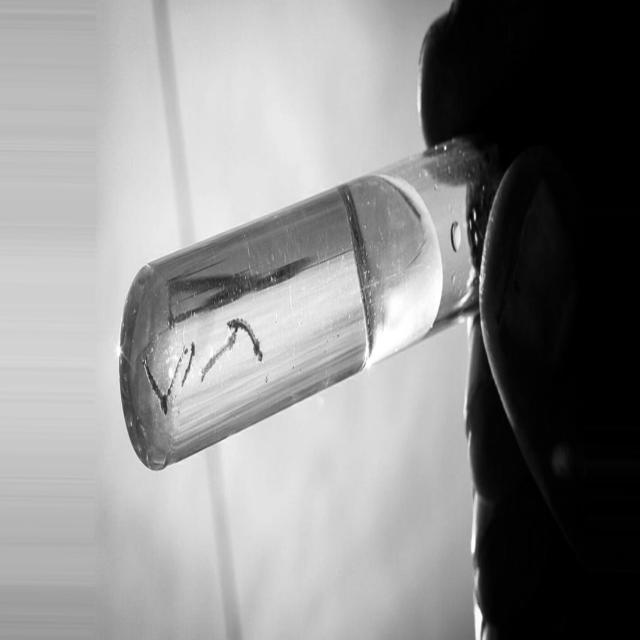larvas: (225, 307, 266, 365), (141, 355, 171, 420), (202, 331, 237, 379), (166, 342, 189, 400), (180, 341, 196, 387)
